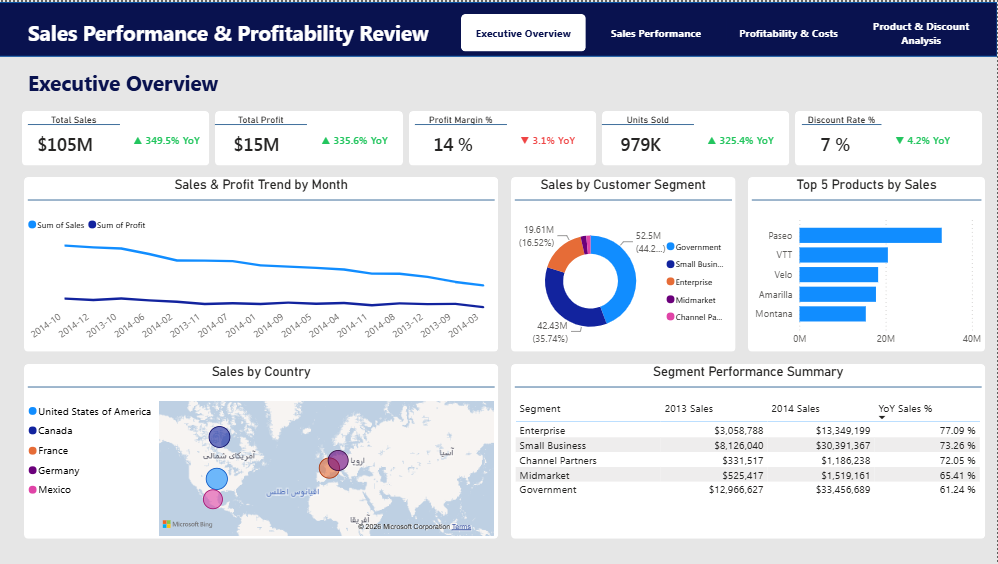

The page's visual inventory and layout, read from the dashboard file:
{"tool":"powerbi","page":{"name":"Executive Overview","canvas":[1280,720],"ordinal":0},"visuals":[{"type":"shape","box":[0,0,1280,70],"z":0},{"type":"shape","box":[30,140,240,70],"z":1000},{"type":"shape","box":[1020,140,240,70],"z":2000},{"type":"shape","box":[772.8,140,240,70],"z":3000},{"type":"shape","box":[525.5,140,240,70],"z":4000},{"type":"shape","box":[277.2,140,241,70],"z":5000},{"type":"shape","box":[32,224,608,224],"z":6000},{"type":"shape","box":[656,224,288,224],"z":7000},{"type":"shape","box":[32,464,608,224],"z":8000},{"type":"shape","box":[656,464,608,224],"z":9000},{"type":"shape","box":[960,224,304,224],"z":10000},{"type":"donutChart","title":"Sales by Customer Segment","fields":{"Y":["Sum(data. Sales)"],"Category":["data.Segment"]},"box":[656,224,288,224],"z":11000},{"type":"barChart","title":"Top 5 Products by Sales","fields":{"Y":["Sum(data. Sales)"],"Category":["data.Product"]},"box":[960,224,304,224],"z":12000},{"type":"lineChart","title":"Sales & Profit Trend by Month","fields":{"Y":["Sum(data. Sales)","Sum(data.Profit)"],"Category":["Sales.Year-Month"]},"box":[32,224,608,224],"z":13000},{"type":"map","title":"Sales by Country","fields":{"Category":["data.Country"],"Size":["Sum(data. Sales)"],"Series":["data.Country"]},"box":[32,464,608,224],"z":14000},{"type":"tableEx","title":"Segment Performance Summary","fields":{"Values":["data.Segment","Table.2013 Sales","Table.2014 Sales","Table.YoY Sales %"]},"box":[656,464,608,224],"z":15000},{"type":"cardVisual","title":"Total Sales","fields":{"Data":["Sales by year.Total Sales"]},"box":[32,144,128,64],"z":16000},{"type":"cardVisual","title":"Total Profit","fields":{"Data":["Sales by year.Total Profit"]},"box":[272,144,128,64],"z":17000},{"type":"cardVisual","title":"Units Sold","fields":{"Data":["KPI.Total Units Sold"]},"box":[768,144,128,64],"z":18000},{"type":"cardVisual","title":"Profit Margin %","fields":{"Data":["KPI.Profit Margin %"]},"box":[528,144,128,64],"z":19000},{"type":"cardVisual","title":"Discount Rate %","fields":{"Data":["KPI.Discount Rate %"]},"box":[1024,144,112,64],"z":20000},{"type":"textbox","box":[32,80,384,48],"z":21000},{"type":"textbox","box":[32,16,544,48],"z":22000},{"type":"pageNavigator","box":[592,16,672,48],"z":23000},{"type":"cardVisual","fields":{"Data":["Growth.Sales Growth Display"]},"box":[144,144,160,64],"z":23001},{"type":"cardVisual","fields":{"Data":["Growth.Profit Growth Display"]},"box":[384,144,160,64],"z":23002},{"type":"cardVisual","fields":{"Data":["Growth.Profit Margin Growth Display"]},"box":[640,144,160,64],"z":23003},{"type":"cardVisual","fields":{"Data":["Growth.Units Sold Growth Display"]},"box":[880,144,160,64],"z":23004},{"type":"cardVisual","fields":{"Data":["Growth.Discount Rate Growth Display"]},"box":[1120,144,160,64],"z":23005}]}

Visuals, with their boxes in screenshot pixels (x1, y1, x2, y2), scaled from the page's 1280x720 canvas onto the 998x564 screenshot:
shape: [0,0,997,55]
shape: [23,110,211,164]
shape: [795,110,982,164]
shape: [603,110,790,164]
shape: [410,110,597,164]
shape: [216,110,404,164]
shape: [25,175,499,351]
shape: [511,175,736,351]
shape: [25,363,499,539]
shape: [511,363,986,539]
shape: [748,175,986,351]
"Sales by Customer Segment" donutChart: [511,175,736,351]
"Top 5 Products by Sales" barChart: [748,175,986,351]
"Sales & Profit Trend by Month" lineChart: [25,175,499,351]
"Sales by Country" map: [25,363,499,539]
"Segment Performance Summary" tableEx: [511,363,986,539]
"Total Sales" cardVisual: [25,113,125,163]
"Total Profit" cardVisual: [212,113,312,163]
"Units Sold" cardVisual: [599,113,699,163]
"Profit Margin %" cardVisual: [412,113,511,163]
"Discount Rate %" cardVisual: [798,113,886,163]
textbox: [25,63,324,100]
textbox: [25,13,449,50]
pageNavigator: [462,13,986,50]
cardVisual - Growth.Sales Growth Display: [112,113,237,163]
cardVisual - Growth.Profit Growth Display: [299,113,424,163]
cardVisual - Growth.Profit Margin Growth Display: [499,113,624,163]
cardVisual - Growth.Units Sold Growth Display: [686,113,811,163]
cardVisual - Growth.Discount Rate Growth Display: [873,113,997,163]
